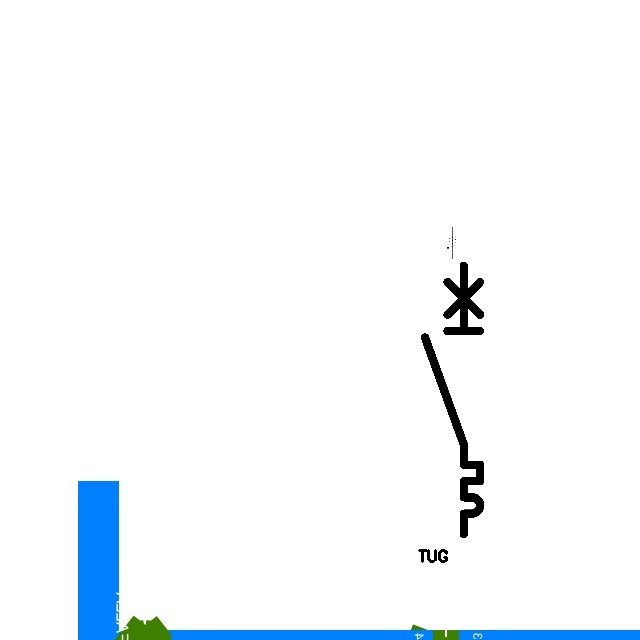interruptor_termomagnetico: (418, 258, 487, 540)
